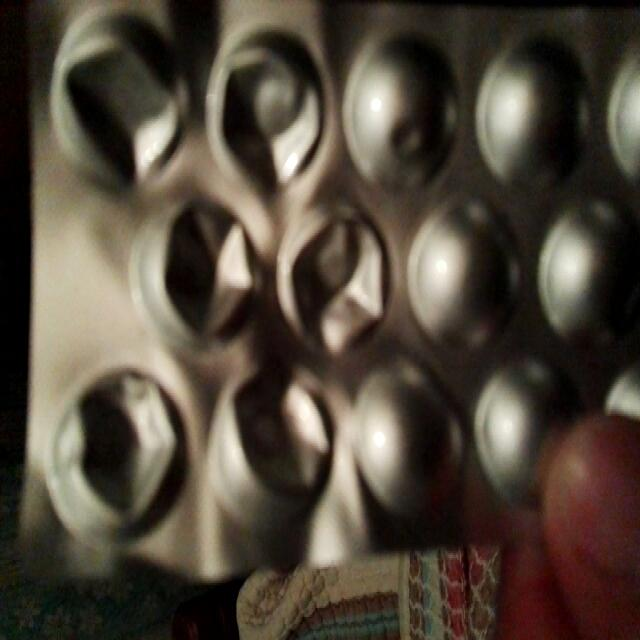Empty: (42, 0, 192, 188), (35, 359, 187, 542), (201, 12, 330, 188), (210, 364, 339, 532), (129, 190, 259, 350), (268, 199, 399, 352)
Pill: (337, 20, 458, 186), (349, 364, 465, 528), (475, 20, 589, 186), (403, 197, 523, 354), (532, 194, 640, 352), (476, 359, 558, 507)
